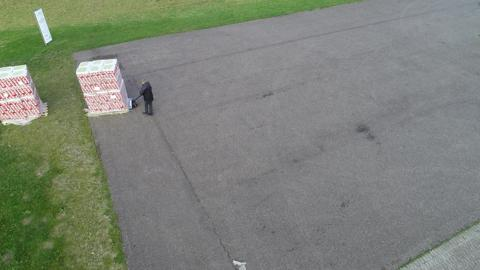RockwoolPallet: (76, 63, 130, 112)
